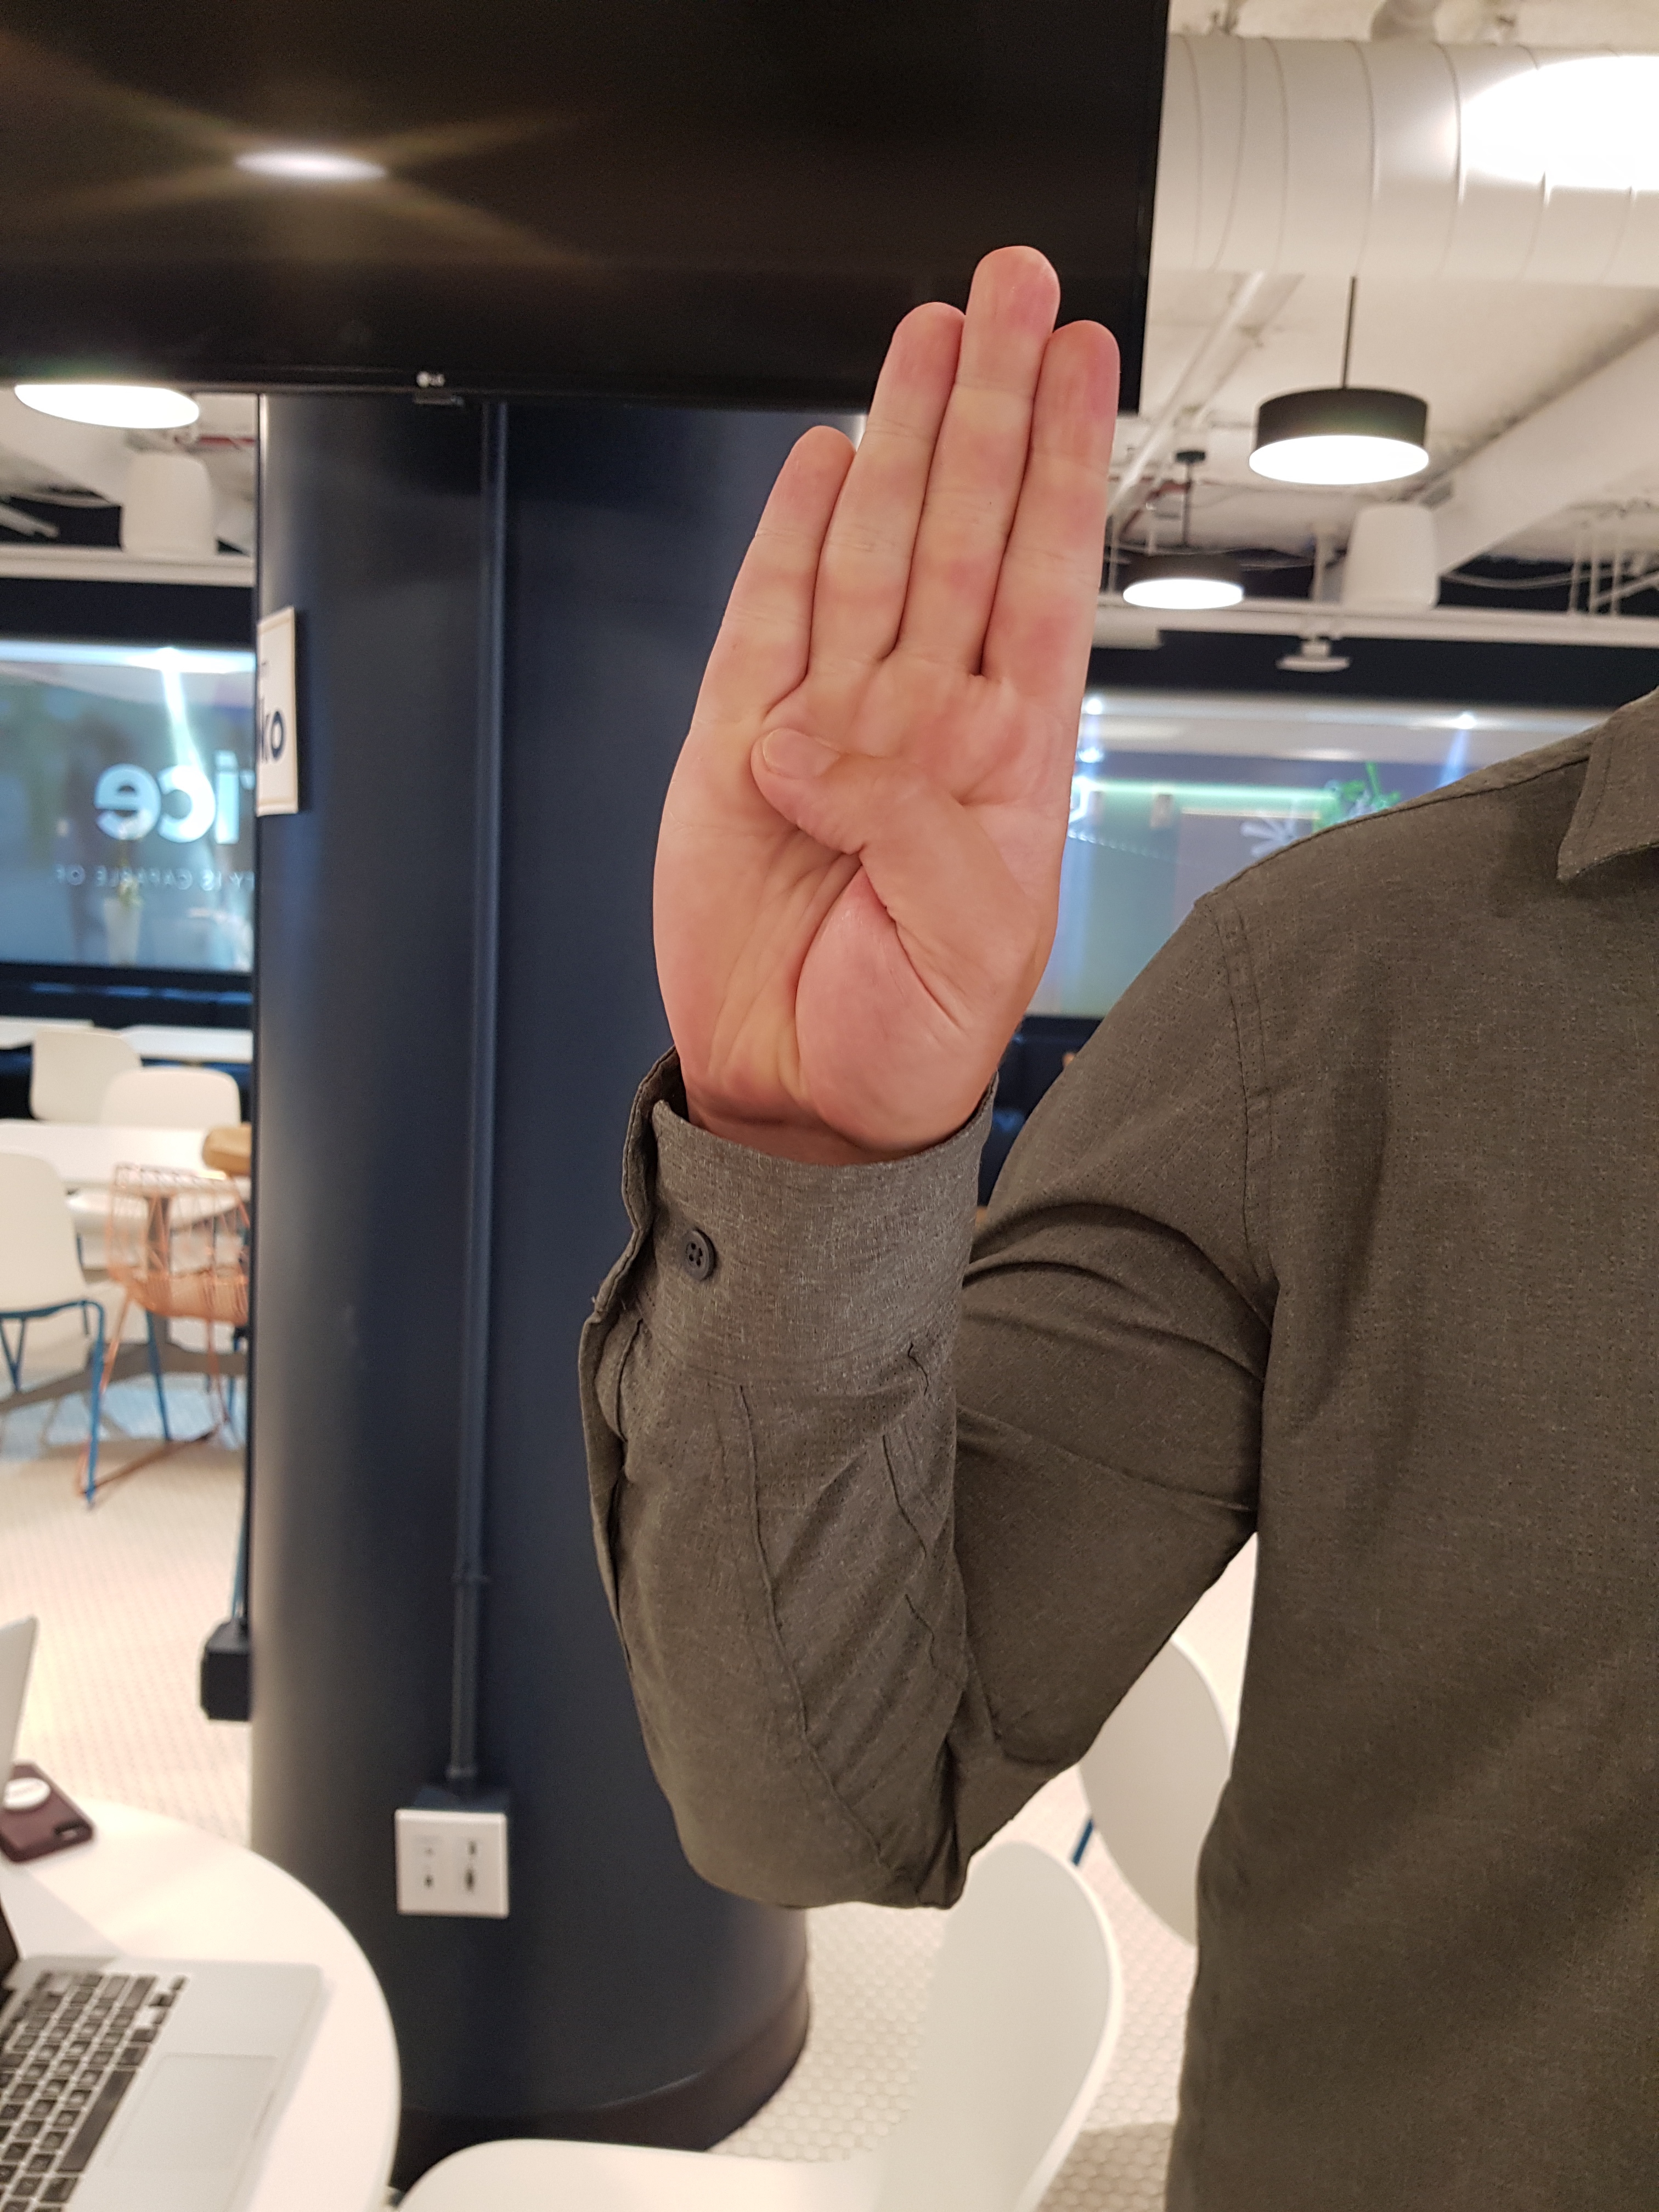b: (629, 214, 1141, 1157)
